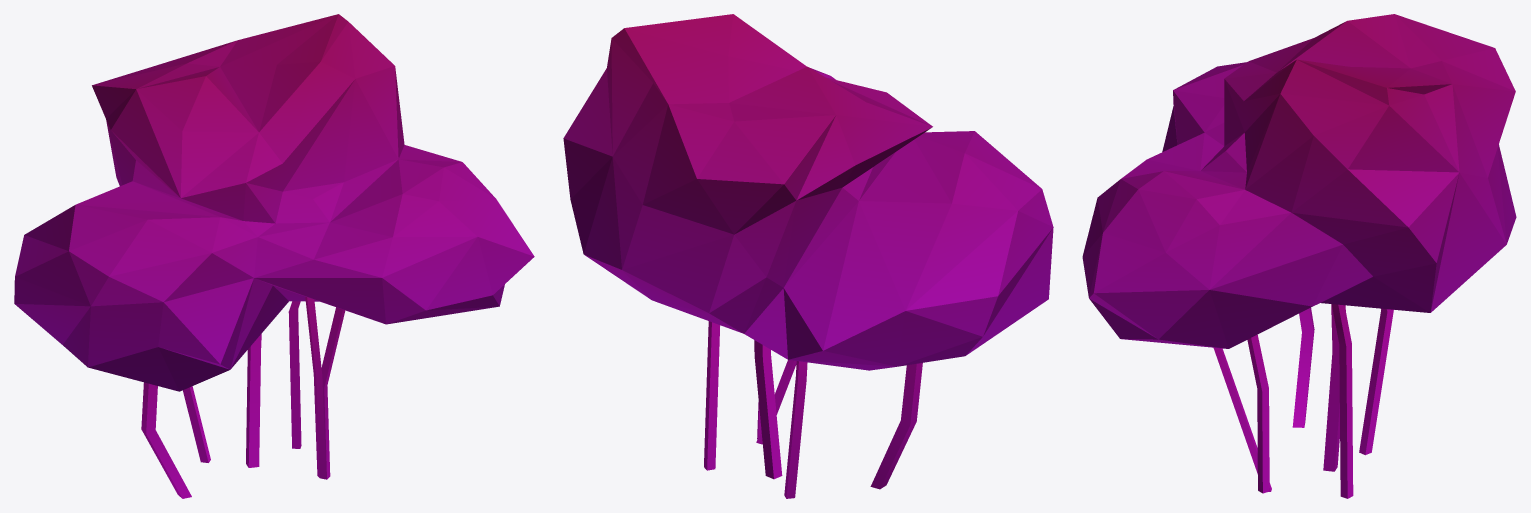
Rendered from SM_Plant_Bush_02.gltf.
The picture shows the model from 3 angles, left to right: view 1: azimuth 30°, elevation 25°; view 2: azimuth 150°, elevation 25°; view 3: azimuth 270°, elevation 25°; orthographic projection. The views are drawn at different scales.
Parts seen in each view (by area): view 1: SM_Plant_Bush_02; view 2: SM_Plant_Bush_02; view 3: SM_Plant_Bush_02.
Boxes of the visible parts, <box> form: SM_Plant_Bush_02: <box>14,14,534,498</box>; SM_Plant_Bush_02: <box>563,14,1053,498</box>; SM_Plant_Bush_02: <box>1082,14,1516,498</box>.
Size of the model in its own units: 2.09 by 2 by 1.79.
